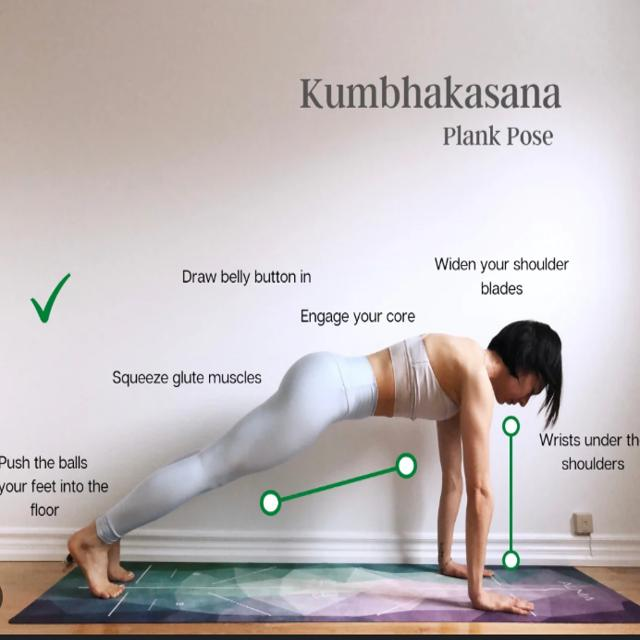Plank_Pose: (53, 314, 569, 617)
